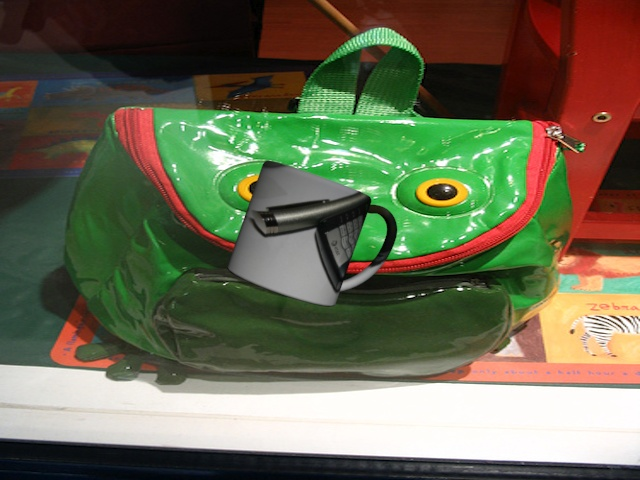mug: (225, 161, 400, 312)
